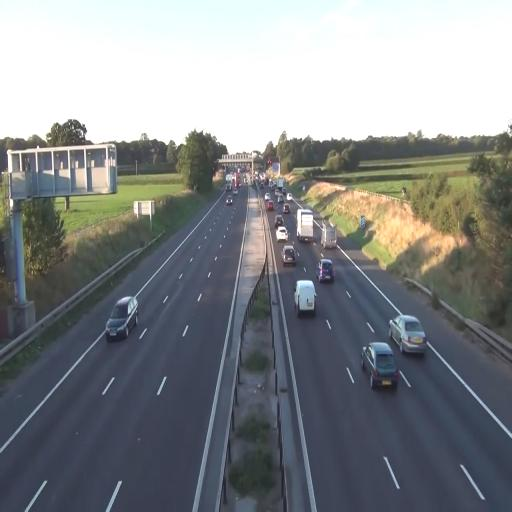vehicle: (361, 341, 398, 389), (105, 296, 138, 342), (389, 314, 426, 355), (294, 279, 316, 317), (296, 208, 314, 242), (318, 258, 334, 284), (282, 244, 298, 267), (275, 219, 288, 240), (276, 224, 288, 242)
